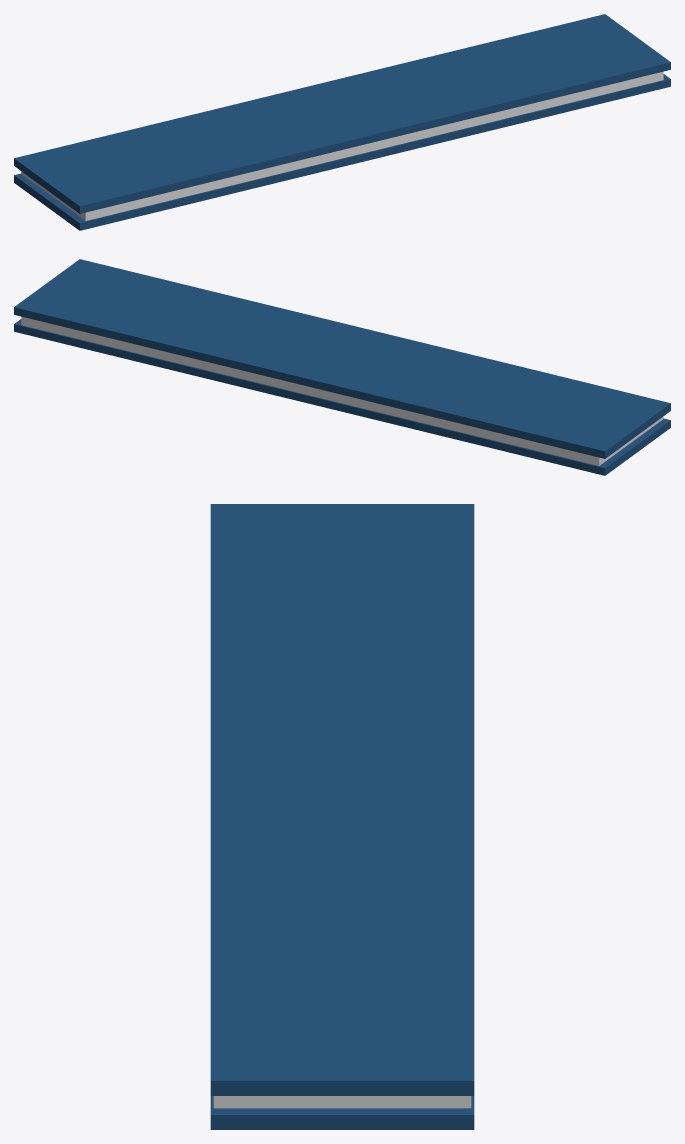
The picture shows the model from 3 angles, top to bottom: view 1: azimuth 30°, elevation 25°; view 2: azimuth 150°, elevation 25°; view 3: azimuth 270°, elevation 25°; orthographic projection. The views are drawn at different scales.
Parts seen in each view (by area): view 1: Cube; view 2: Cube; view 3: Cube.
Part boxes in pixels (x1,y1,x2,y2): Cube: [14, 14, 670, 230]; Cube: [14, 259, 670, 475]; Cube: [210, 504, 474, 1129].
Bounding box in the file's own units: 1037 × 41 × 200.
